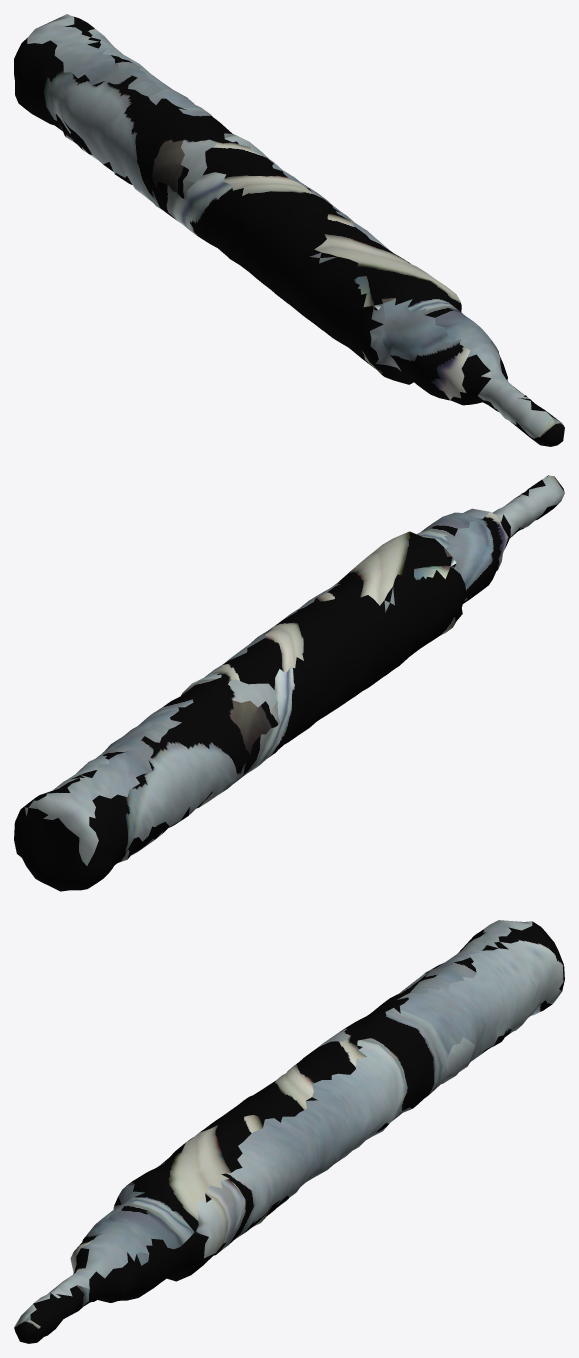
Rendered from scan_align.obj.
The picture shows the model from 3 angles, top to bottom: view 1: azimuth 30°, elevation 25°; view 2: azimuth 150°, elevation 25°; view 3: azimuth 330°, elevation 25°; orthographic projection.
Size of the model in its own units: 0.015 by 0.0152 by 0.137.
